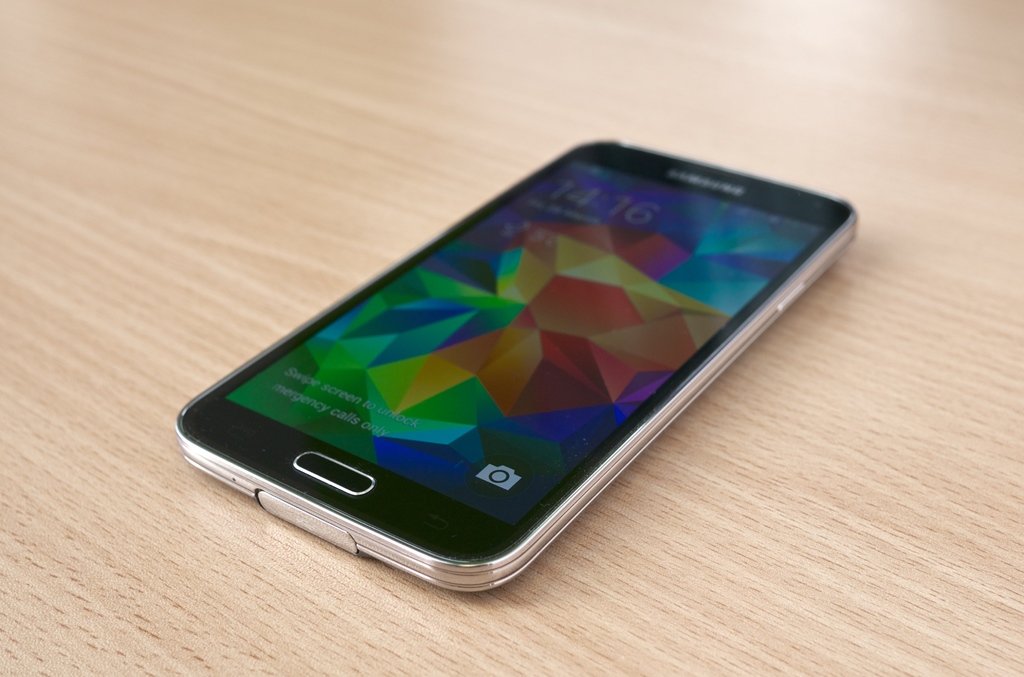mobile phone: (166, 144, 852, 594)
